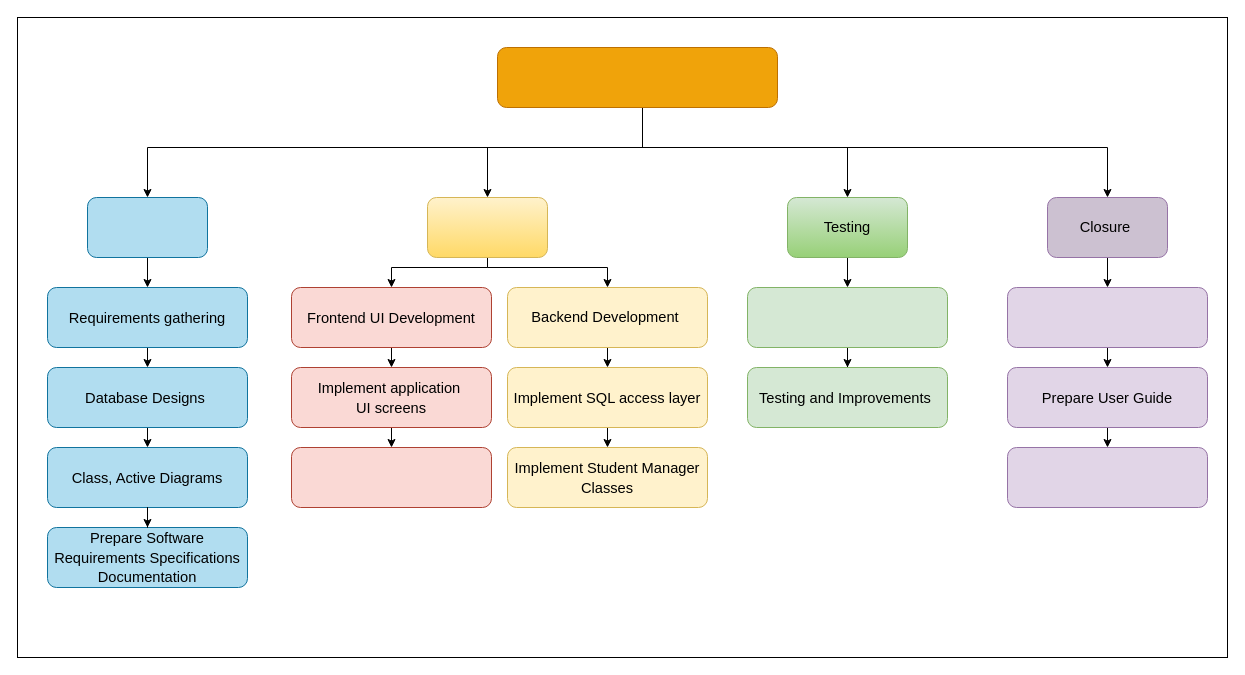
Image size: 1245x675. Some labels were removed from this diagram. Here are the shapes that lost their labels. From the top down, the centre of each, then its label:
(637,77): Course Enrollment Windows application
(147,227): Desinging
(487,227): Application Development
(847,317): User Testing
(1107,317): Deliver A pplication to P roduction
(391,477): Implement application logics and functionality
(1107,477): Prepare Project Report
